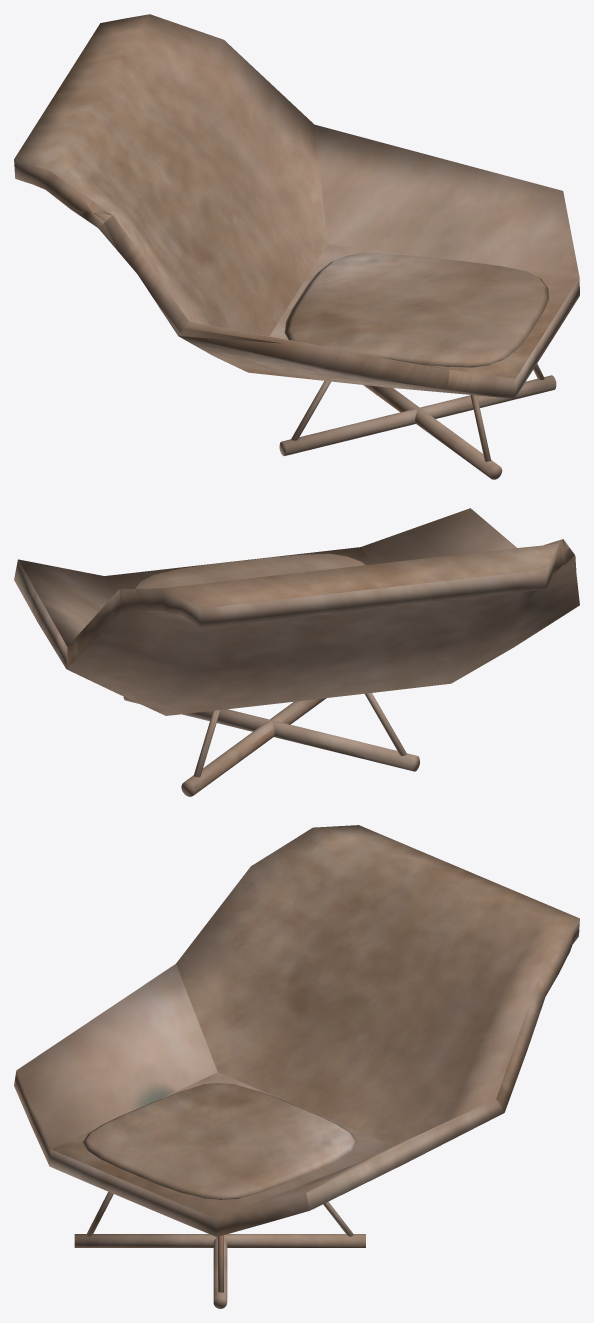
File: loungechairupdated.obj
3 renders of one model, top to bottom at view 1: azimuth 30°, elevation 25°; view 2: azimuth 150°, elevation 25°; view 3: azimuth 270°, elevation 25°, orthographic. The views are drawn at different scales.
Visible parts, largest first — view 1: Cylinder.004_Cylinder.007; view 2: Cylinder.004_Cylinder.007; view 3: Cylinder.004_Cylinder.007.
Boxes of the visible parts, box(x1,y1,x2,y2) form: Cylinder.004_Cylinder.007: box(14, 14, 579, 479); Cylinder.004_Cylinder.007: box(14, 508, 579, 796); Cylinder.004_Cylinder.007: box(14, 825, 579, 1308).
Bounding box in the file's own units: 6.41 × 3.44 × 6.41.
